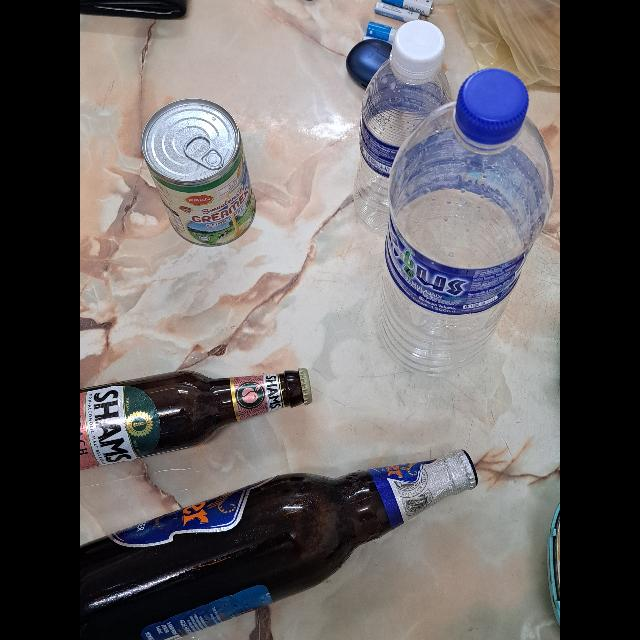aba de lata: (186, 130, 224, 176)
garrafa de vidro: (80, 452, 478, 640), (80, 366, 314, 468)
garrafa plástica: (378, 68, 548, 380), (362, 19, 452, 237)
lata: (144, 95, 258, 249)
tampa plástica: (457, 71, 528, 149), (389, 19, 446, 83)
